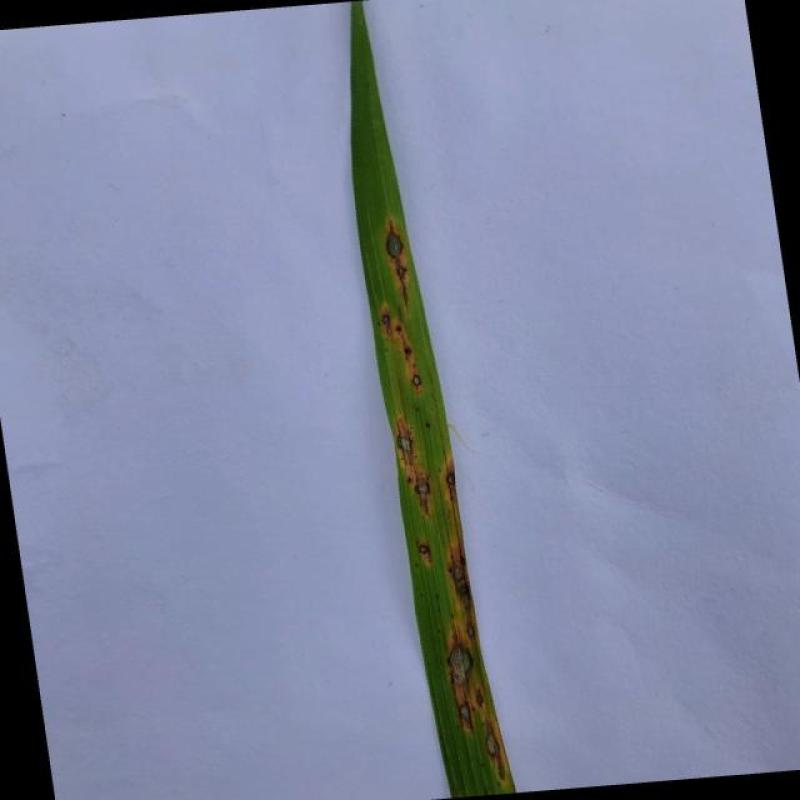Leaf_Blast: (384, 220, 411, 310), (446, 548, 475, 612), (446, 639, 475, 686), (410, 469, 435, 516), (395, 415, 417, 465), (443, 458, 458, 503), (456, 700, 475, 730), (484, 725, 500, 757), (416, 540, 434, 565), (408, 372, 424, 392), (473, 688, 488, 709), (400, 342, 414, 362), (382, 312, 392, 336), (394, 320, 406, 339), (465, 621, 477, 640)
